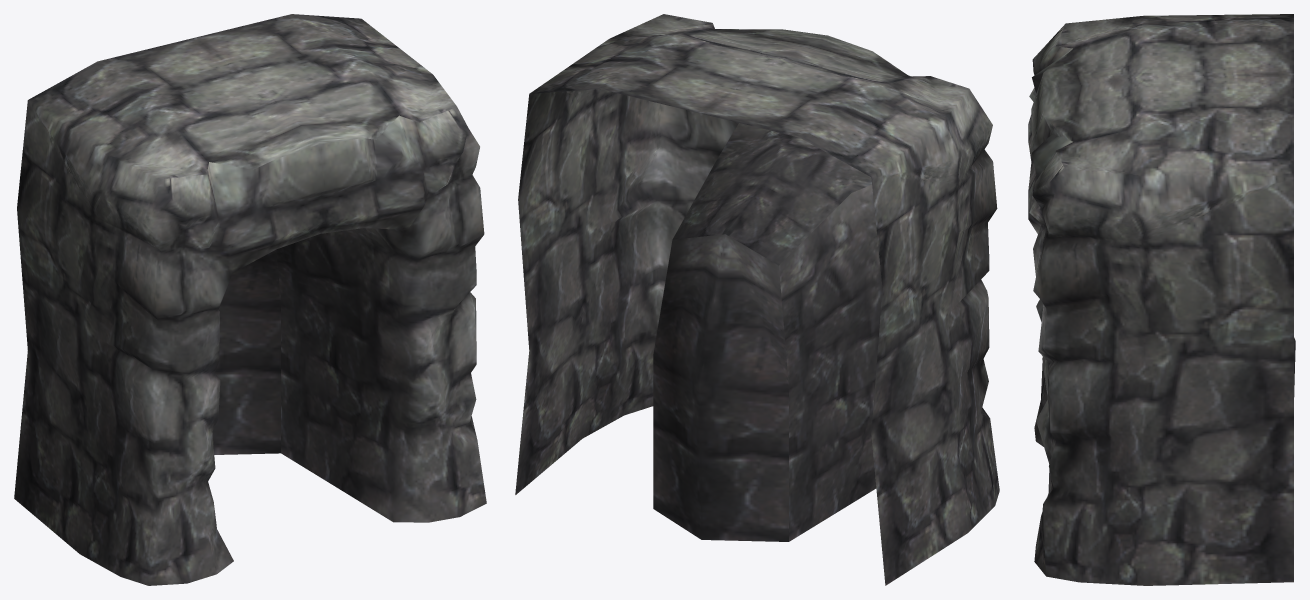
The model's file is Scene_Cave.FBX.
The picture shows the model from 3 angles, left to right: view 1: azimuth 30°, elevation 25°; view 2: azimuth 150°, elevation 25°; view 3: azimuth 270°, elevation 25°; orthographic projection. The views are drawn at different scales.
Visible parts, largest first — view 1: Scene_Cave; view 2: Scene_Cave; view 3: Scene_Cave.
Part boxes in pixels (<box>): Scene_Cave: <box>14,14,486,585</box>; Scene_Cave: <box>515,14,999,585</box>; Scene_Cave: <box>1028,14,1295,585</box>.
Bounding box in the file's own units: 390 × 414 × 239.
